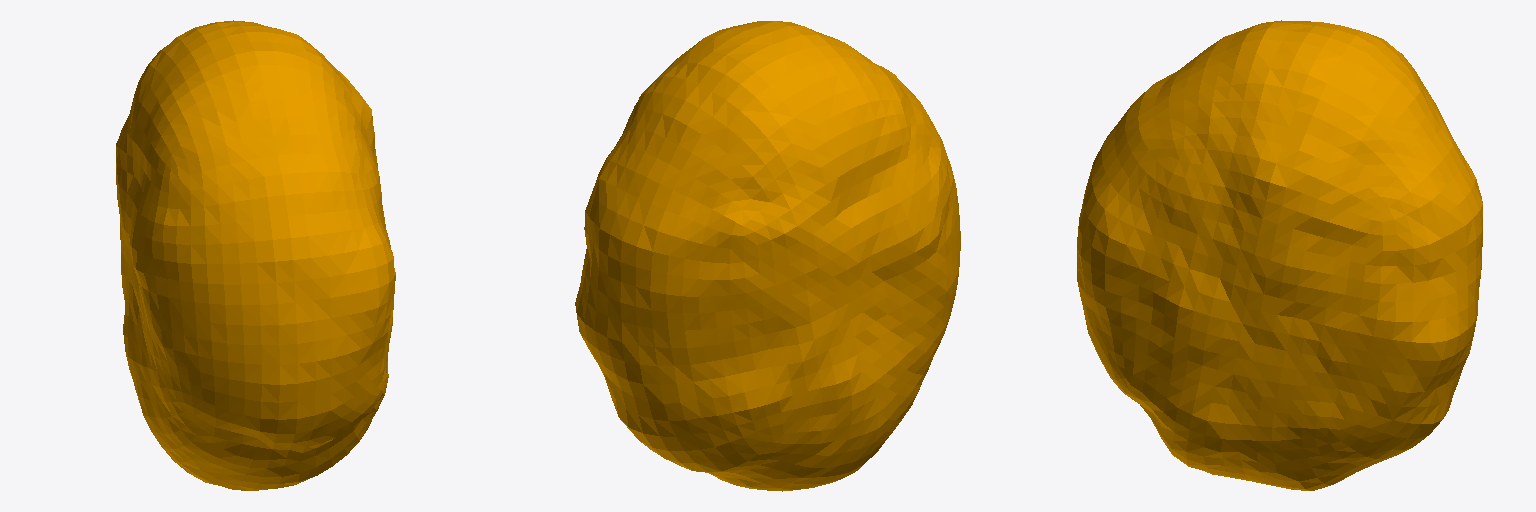
The robot description file, URDF, robot "rock":
<?xml version="1.0" ?>
<robot name="rock">
  <link name="rock">
    <inertial>
      <mass value="0.262"/>
      <origin rpy="0 0 0" xyz="0 0 0"/>
      <inertia ixx="0.000262" ixy="0" ixz="0" iyy="0.000262" iyz="0" izz="0.000262"/>
    </inertial>
    <collision name="rock_collision">
      <origin rpy="0 0 0" xyz="0 0 0"/>
      <geometry>
        <mesh filename="package://rocks/visual/129.dae" scale="1 1 1"/>
      </geometry>
    </collision>
    <visual name="rock_visual">
      <origin rpy="0 0 0" xyz="0 0 0"/>
      <geometry>
        <mesh filename="package://rocks/visual/129.dae" scale="1 1 1"/>
      </geometry>
    </visual>
  </link>
</robot>

--- What the picture shows (computed from the rendered views, not written in the file) ---
Views: 3 orthographic renders of the robot side by side, from view 1: azimuth 30°, elevation 25°; view 2: azimuth 150°, elevation 25°; view 3: azimuth 270°, elevation 25°.
Robot: rock — 1 links, 0 joints (none); root link rock; default pose: every joint at zero.
Visible links, largest first — view 1: rock; view 2: rock; view 3: rock.
Link boxes in pixels (x1,y1,x2,y2): rock: (116,20,395,490); rock: (575,21,960,491); rock: (1077,20,1482,490).
Size in the robot's own frame: 0.0576 by 0.0749 by 0.0915 metres.
Meshes: 1 distinct files referenced, 1 mesh visuals loaded (1 Collada DAE).